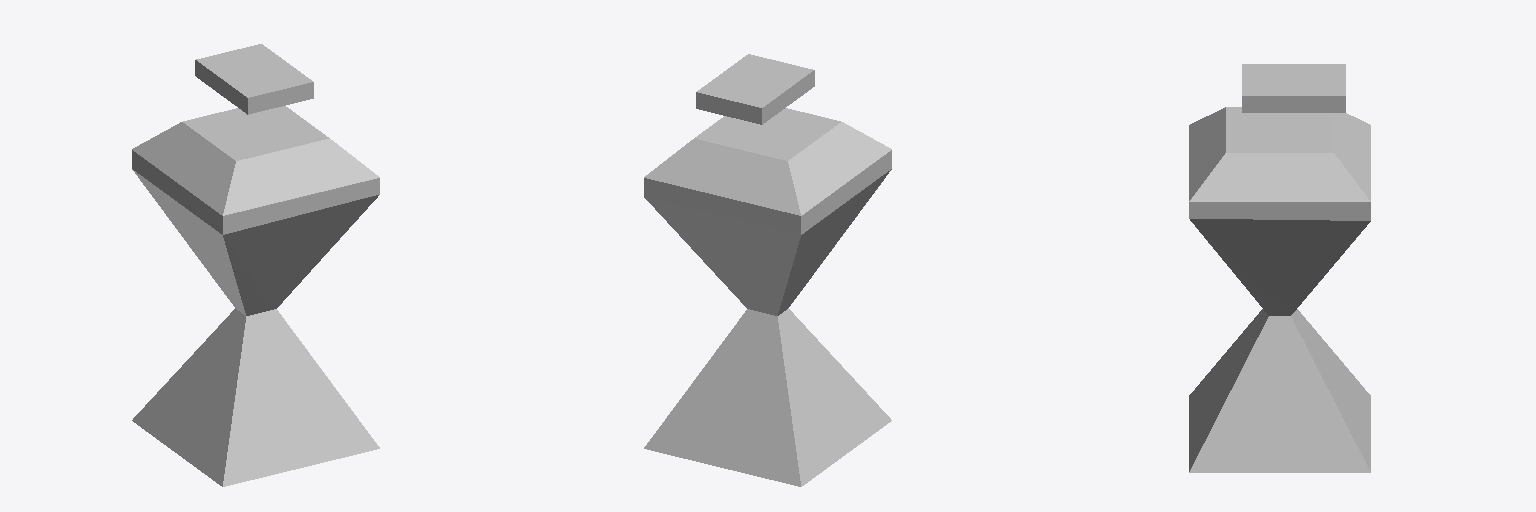
The model's file is robot.obj.
3 views of the same model, side by side, from view 1: azimuth 30°, elevation 25°; view 2: azimuth 150°, elevation 25°; view 3: azimuth 270°, elevation 25° (orthographic).
Parts seen in each view (by area): view 1: Cube; view 2: Cube; view 3: Cube.
Boxes of the visible parts, box(x1,y1,x2,y2) form: Cube: box(132, 44, 379, 486); Cube: box(644, 54, 891, 486); Cube: box(1189, 64, 1370, 472).
Size of the model in its own units: 2 by 4.33 by 2.